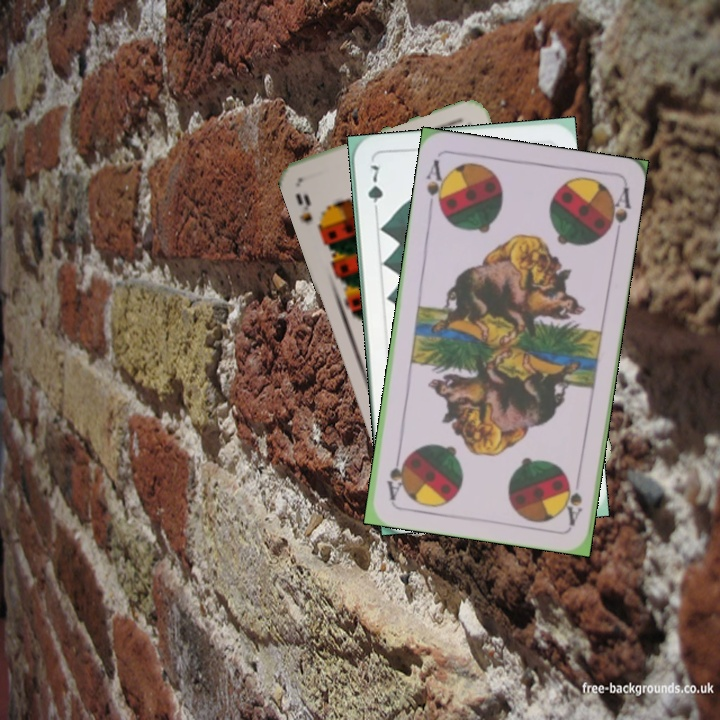G7: (364, 161, 385, 218)
S9: (291, 189, 329, 238)
SA: (422, 155, 450, 215), (560, 469, 585, 528)
